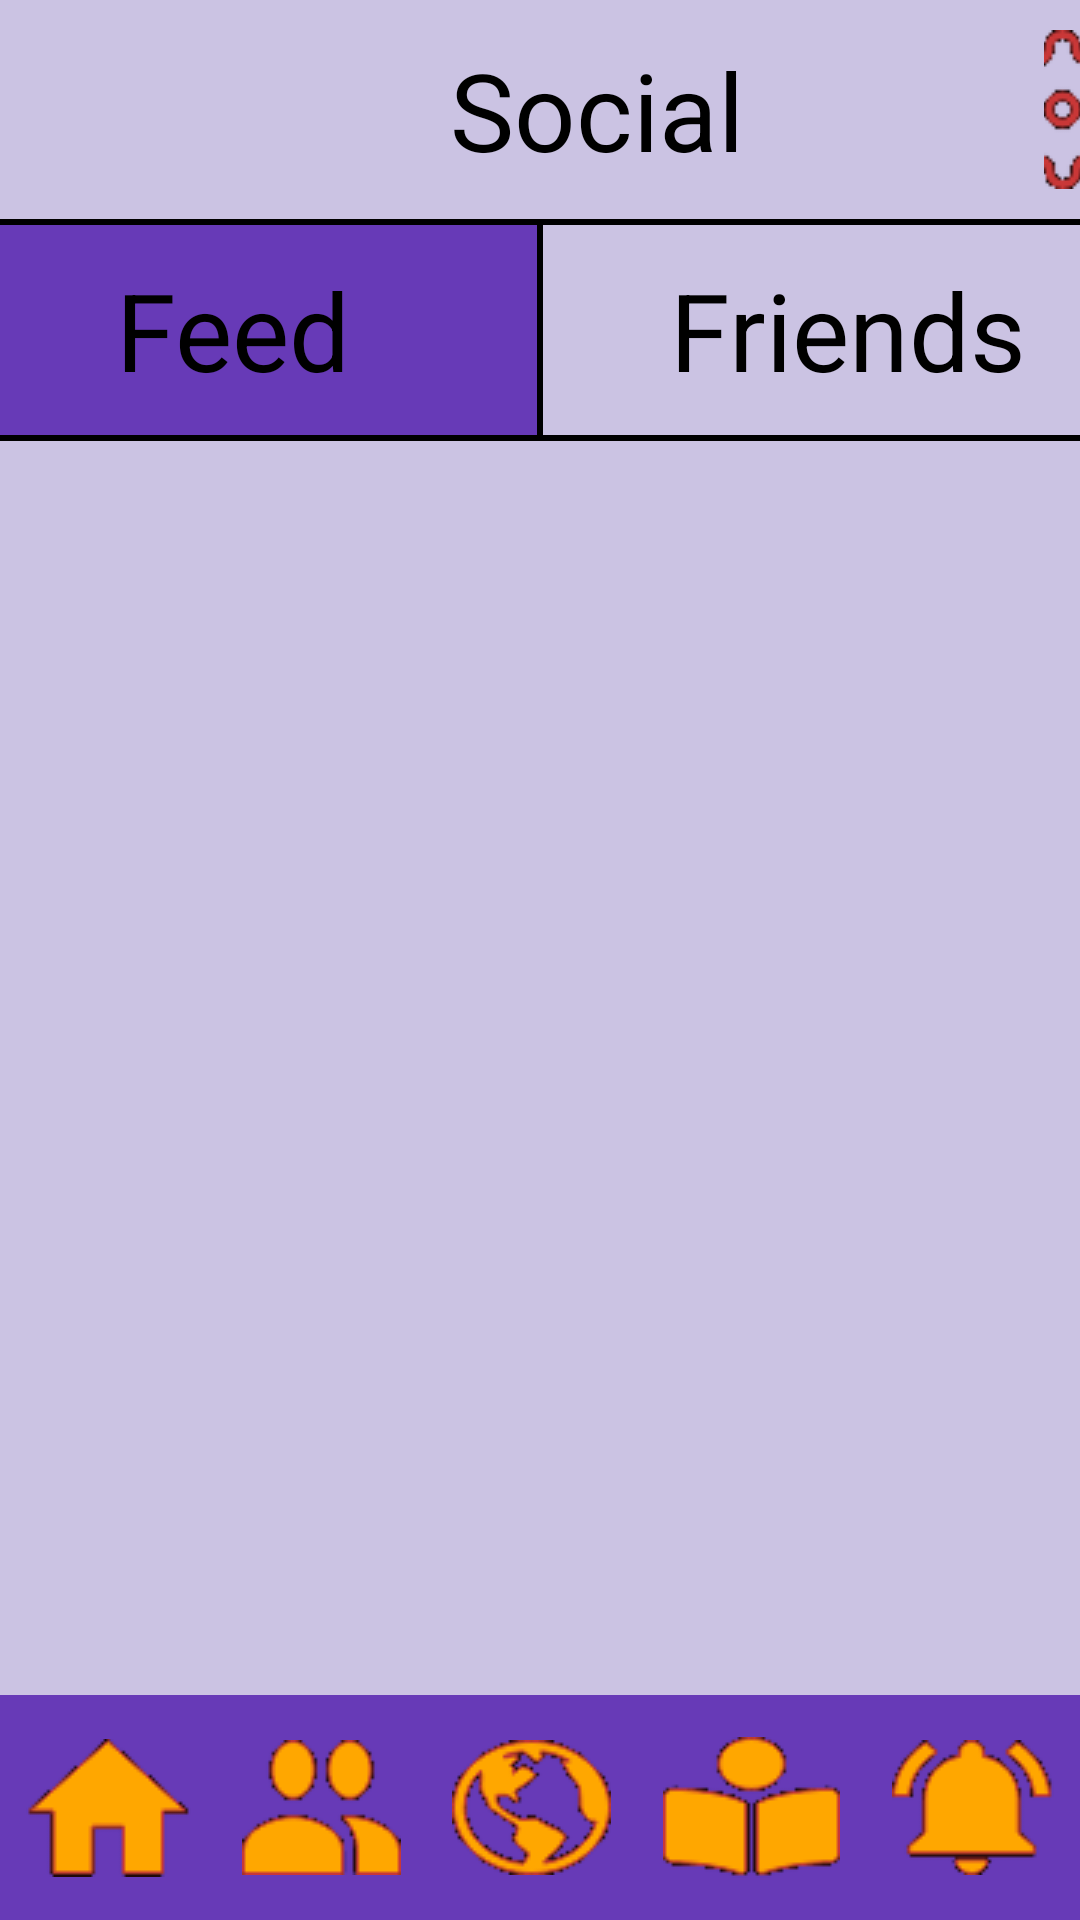

Where to tap for icons on this 1080x1920 app screen, as point (x, y):
cookbookicon: point (751, 1806)
exploreicon: point (531, 1807)
homeorange: point (108, 1808)
notification: point (972, 1807)
socialicon: point (321, 1807)
